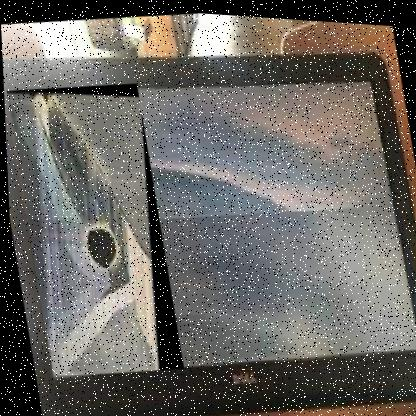crack: (5, 74, 182, 383)
spot: (46, 184, 104, 259)
